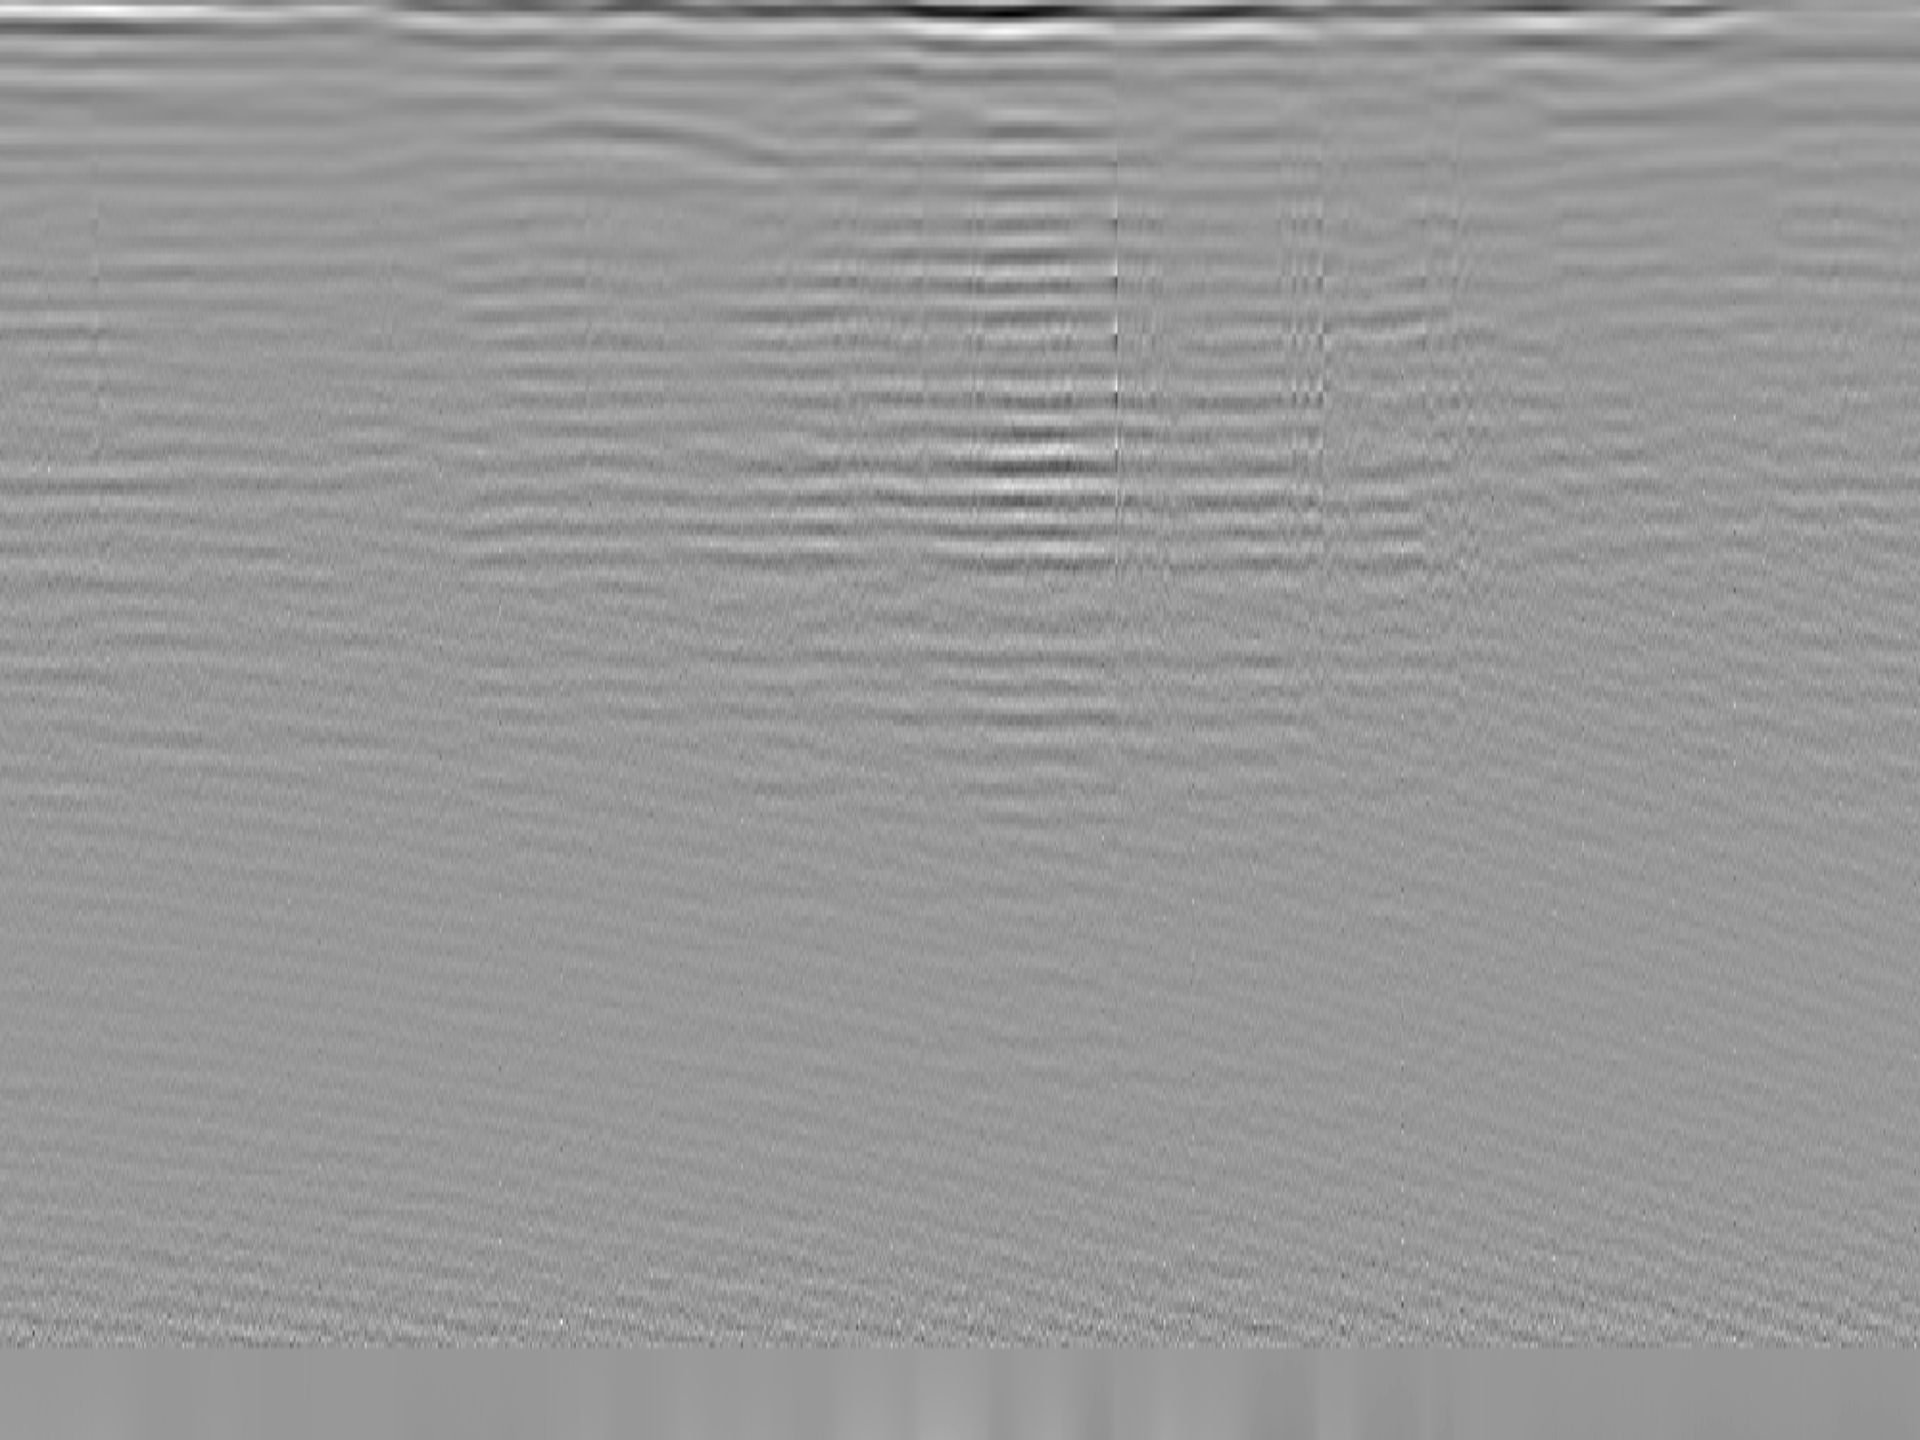Tunnel: (366, 101, 816, 175)
